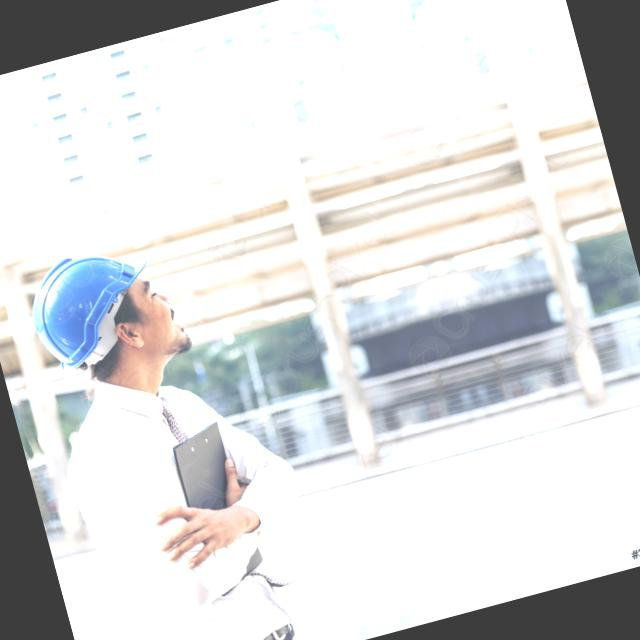helmet: (20, 235, 169, 382)
no-vest: (47, 352, 328, 640)
